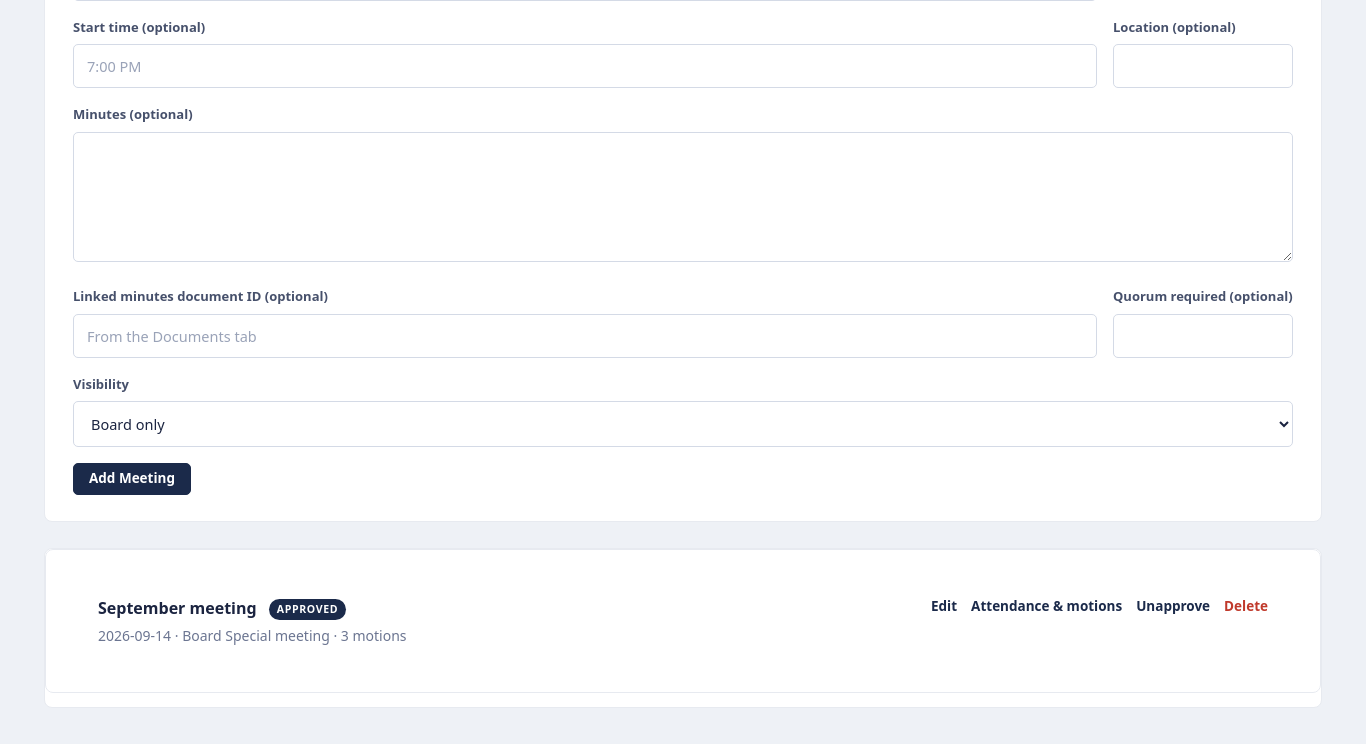
MeetingsManager › surfaces the 409 text when deleting an approved meeting
(page scrolled)
Check: the text "September meeting" is shown, box [98,597,257,619]
What coordinates should you click on to do the following:
click the button with aria-label "delete september meeting"
I would click on:
 (1246, 607)
Its box is [1224,596,1268,617].
(page scrolled)
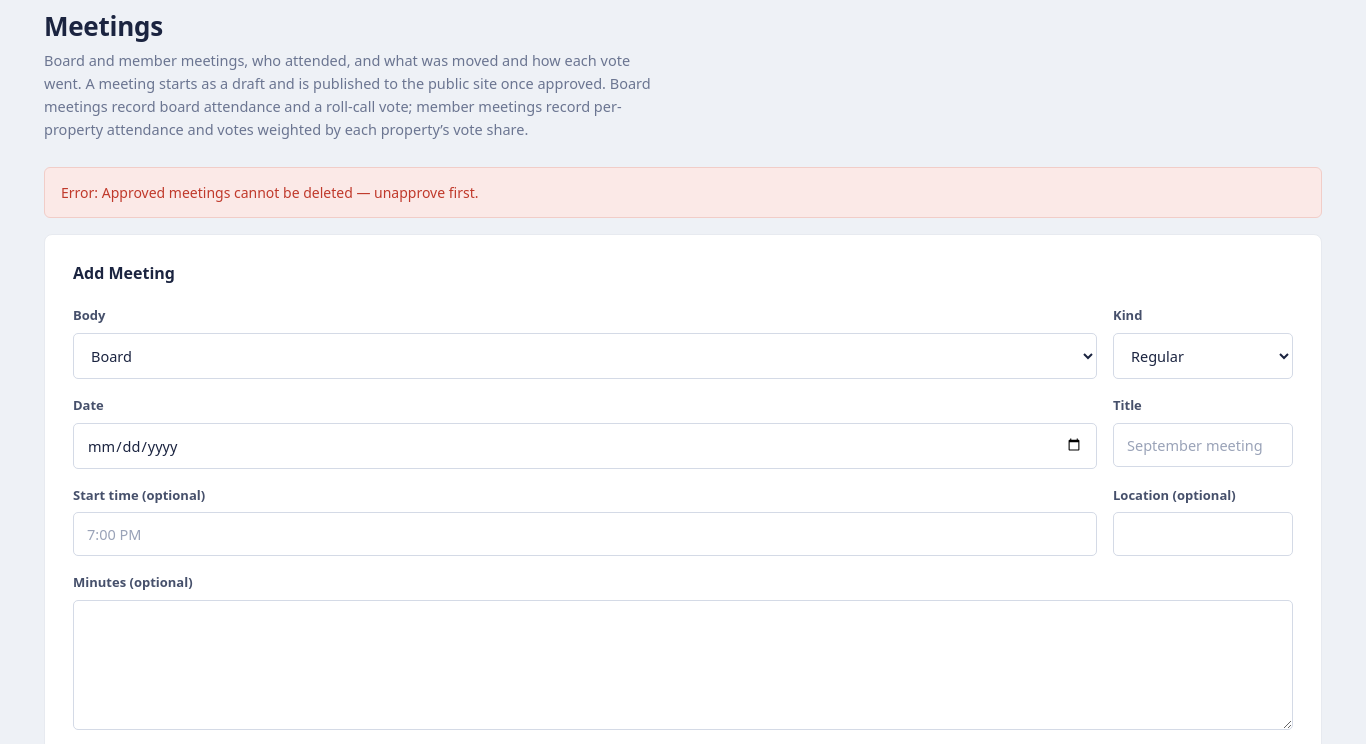
Check: the text "unapprove first" is shown, box [61,183,478,202]
